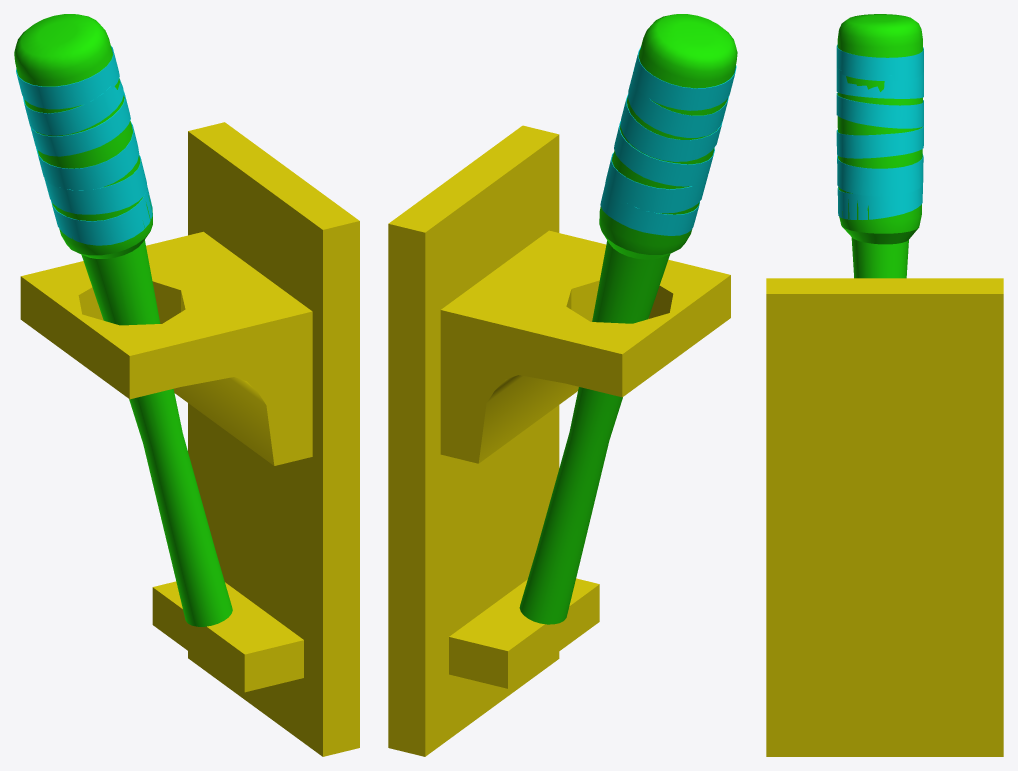
The model's file is Torch.fbx.
The picture shows the model from 3 angles, left to right: view 1: azimuth 30°, elevation 25°; view 2: azimuth 150°, elevation 25°; view 3: azimuth 270°, elevation 25°; orthographic projection. The views are drawn at different scales.
Parts seen in each view (by area): view 1: Cube.013, Cylinder.002; view 2: Cube.013, Cylinder.002; view 3: Cube.013, Cylinder.002.
Boxes of the visible parts, x1=… form: Cube.013: x1=20, y1=122, x2=359, y2=756; Cylinder.002: x1=14, y1=14, x2=232, y2=626; Cube.013: x1=388, y1=125, x2=730, y2=756; Cylinder.002: x1=519, y1=14, x2=737, y2=624; Cube.013: x1=766, y1=278, x2=1003, y2=756; Cylinder.002: x1=836, y1=14, x2=923, y2=278.
Bounding box in the file's own units: 134 × 341 × 114.
